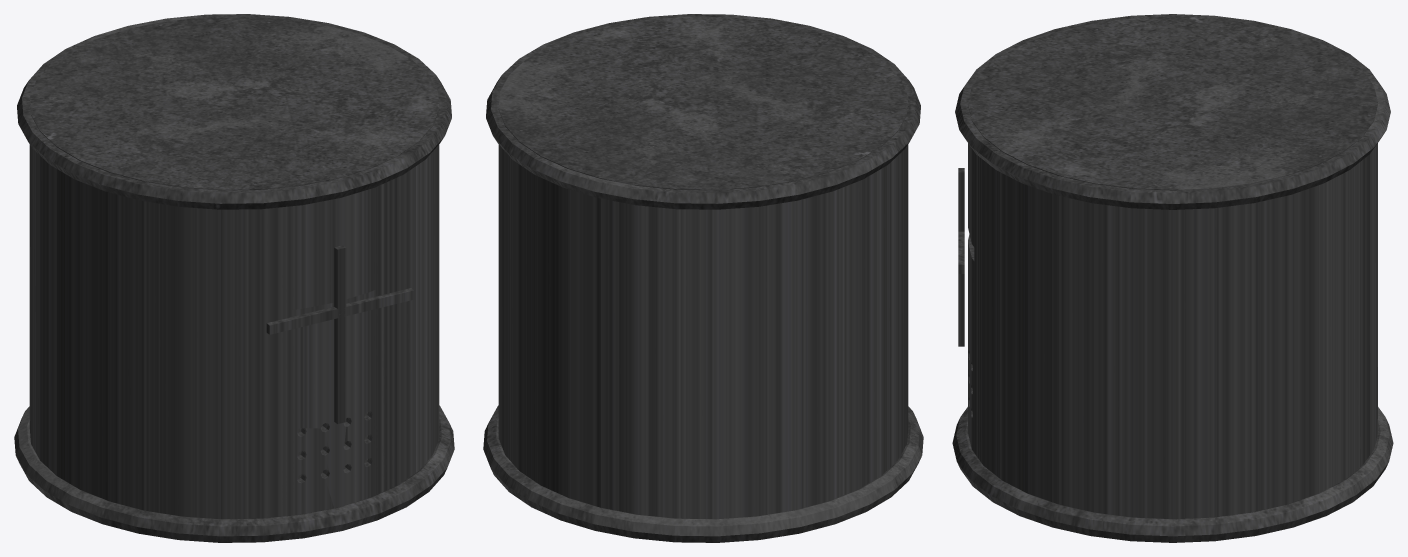
Rendered from great_helm.fbx.
3 renders of one model, left to right at view 1: azimuth 30°, elevation 25°; view 2: azimuth 150°, elevation 25°; view 3: azimuth 270°, elevation 25°, orthographic.
Visible parts, largest first — view 1: great_helm; view 2: great_helm; view 3: great_helm.
Part boxes in pixels (box(x1,y1,x2,y2)): great_helm: box(14, 14, 454, 542); great_helm: box(483, 14, 923, 542); great_helm: box(952, 14, 1393, 542).
Bounding box in the file's own units: 0.344 × 0.3025 × 0.344.
1 material, 1 textured.
